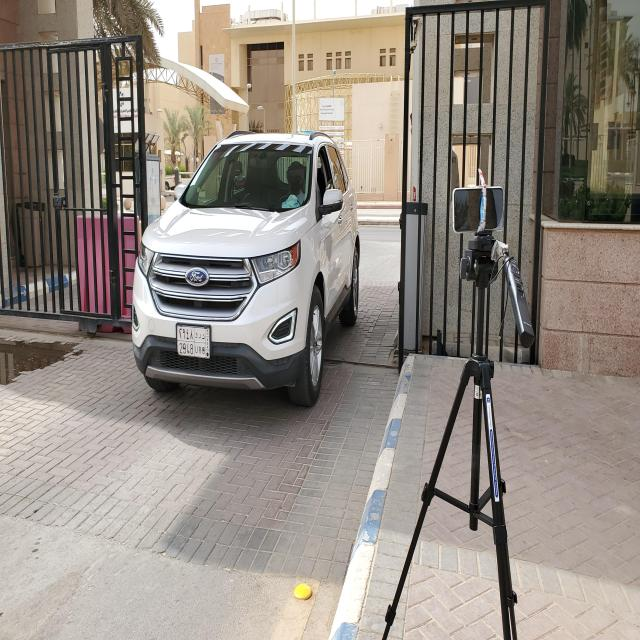license_plate: (176, 324, 210, 359)
